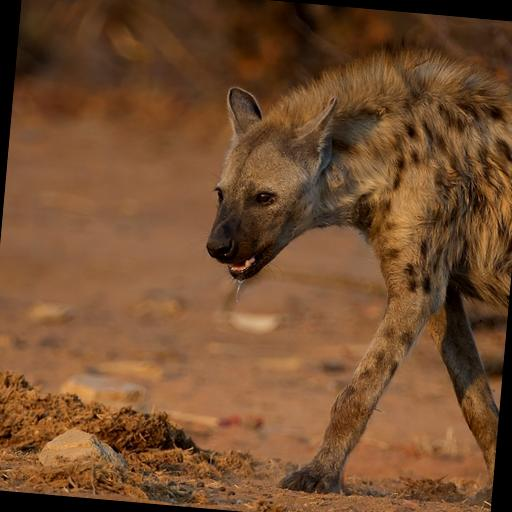hyenas: (189, 0, 512, 512)
